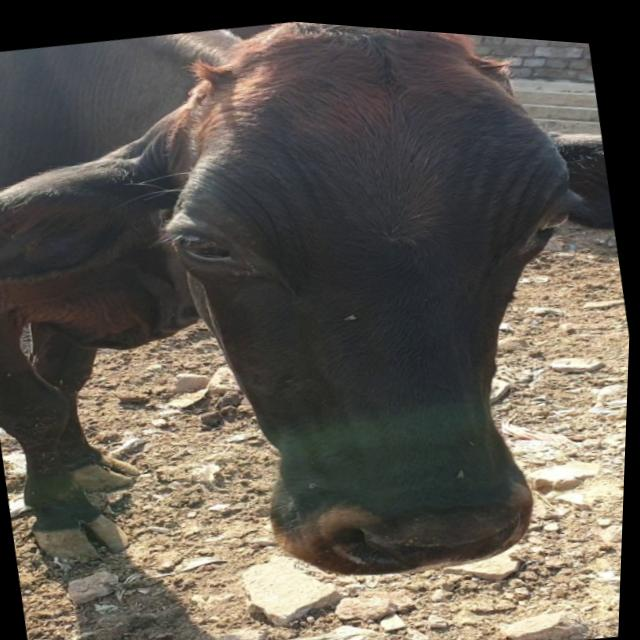cowFace: (105, 7, 640, 625)
